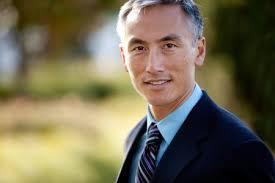bare: (128, 56, 192, 107)
